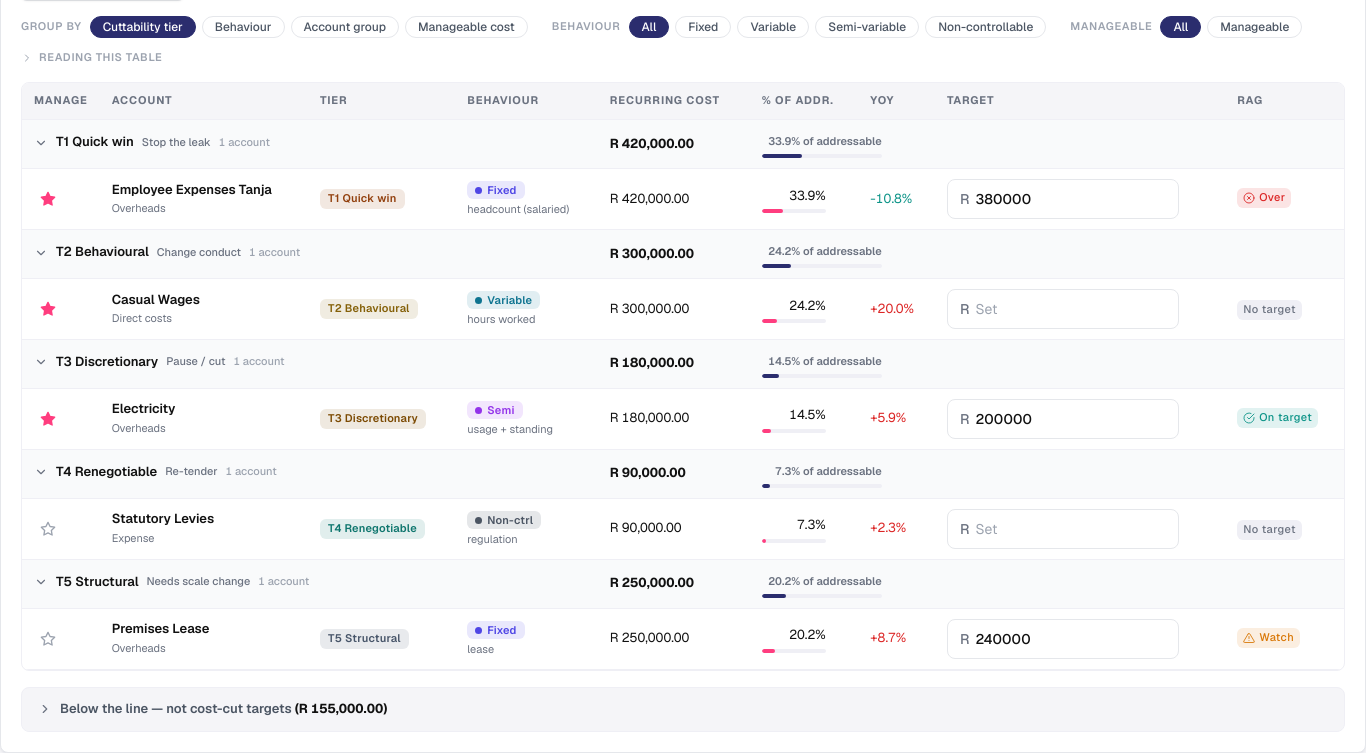
Area 4 — below-the-line section › expands to list the T0 below-the-line rows, rendered READ-ONLY (no target input, no re-tag select)
(page scrolled)
Click the button with class "btl__toggle": (177, 708) [22,688,1344,730]
(page scrolled)
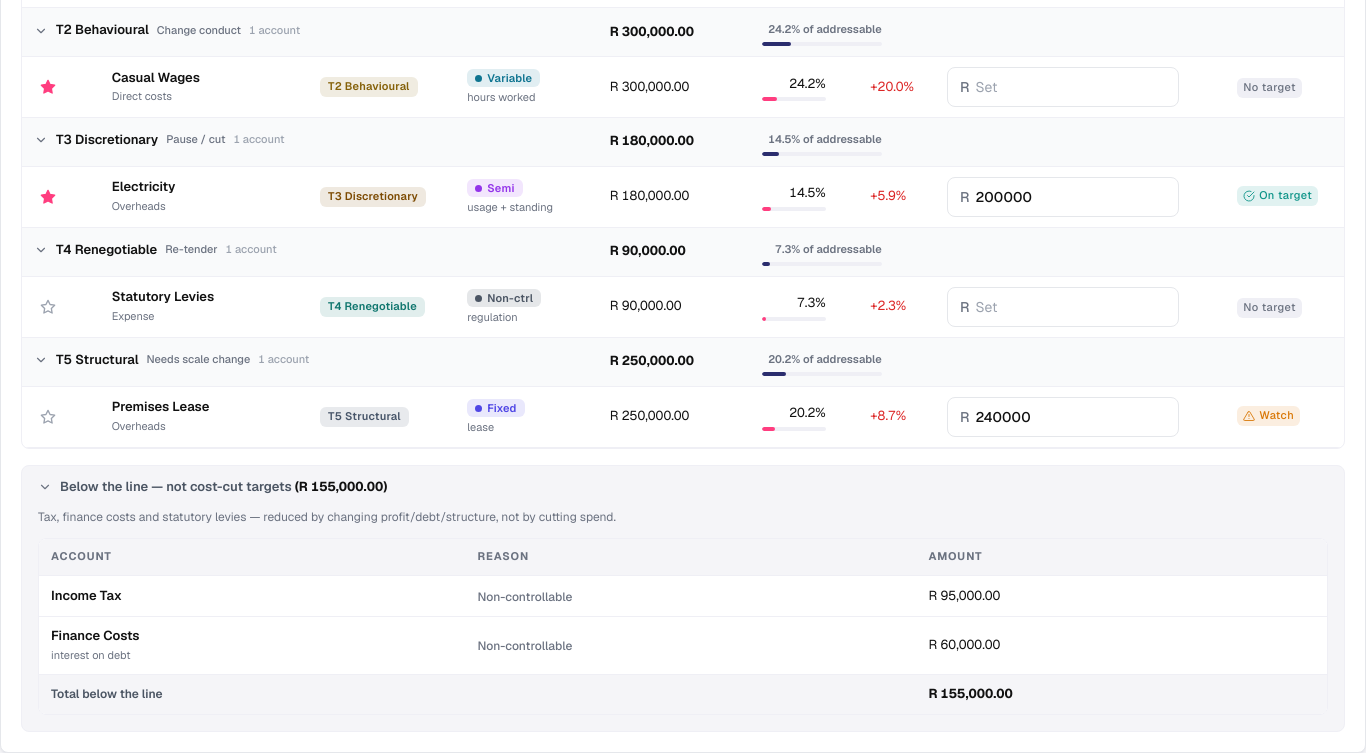
expect the button with class "btl__toggle" is expanded: met, box [22,466,1344,508]
expect the element named "Below the line — not cost-cut targets" shows "Income Tax": met, box [51,587,122,604]
expect the element named "Below the line — not cost-cut targets" shows "finance costs": met, box [51,627,140,644]
